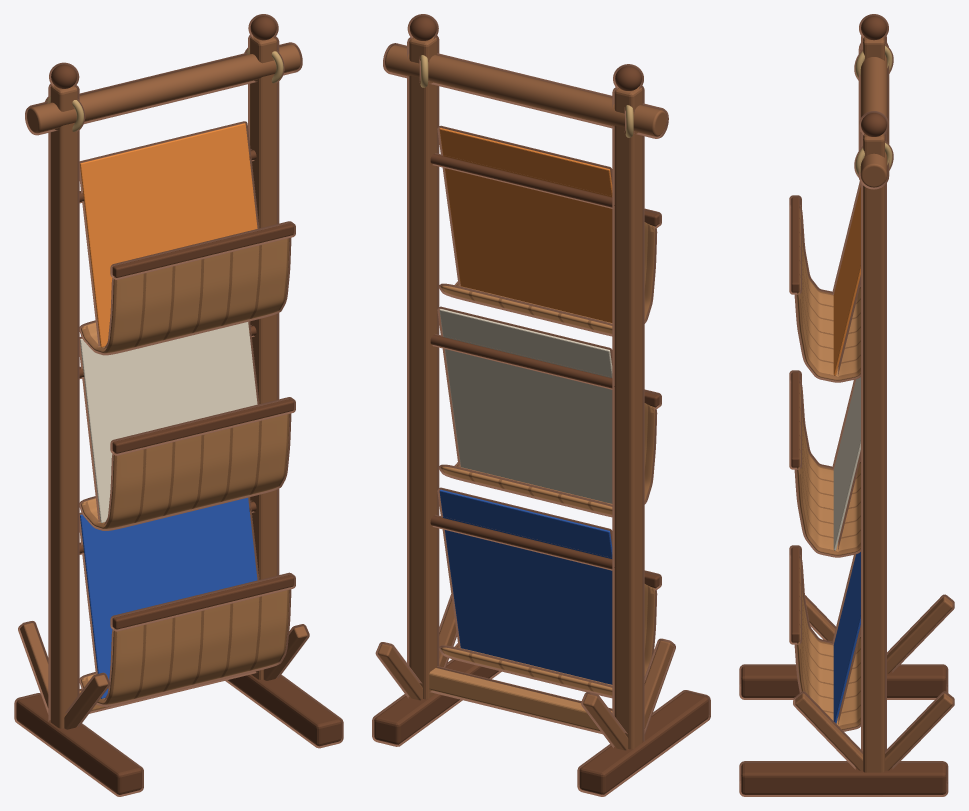
Rendered from MC_5_StandRack.glb.
The picture shows the model from 3 angles, left to right: view 1: azimuth 30°, elevation 25°; view 2: azimuth 150°, elevation 25°; view 3: azimuth 270°, elevation 25°; orthographic projection. The views are drawn at different scales.
Visible parts, largest first — view 1: Sleeve_Rack3, Rack_Post-1, Sleeve_Rack2, Sleeve_Rack1, Rack_Pocket2, Rack_Pocket3, Rack_Pocket1, Rack_Post1, Rack_TopBeam, Rack_Foot-1, Rack_Foot1, Rack_Pocket2_Trim (+7 smaller); view 2: Sleeve_Rack1, Sleeve_Rack2, Sleeve_Rack3, Rack_Post-1, Rack_Post1, Rack_TopBeam, Rack_Foot-1, Rack_Stretcher, Rack_Pocket3, Rack_Pocket2, Rack_Pocket1, Rack_Foot1 (+9 smaller); view 3: Rack_Post1, Rack_Foot1, Rack_Pocket3, Rack_Pocket2, Rack_Pocket1, Rack_Foot-1, Sleeve_Rack3, Sleeve_Rack2, Sleeve_Rack1, Rack_TopBeam, Rack_Brace1-1, Rack_Brace11 (+8 smaller).
Boxes of the visible parts, x1=… form: Sleeve_Rack3: x1=79, y1=121, x2=259, y2=347; Rack_Post-1: x1=48, y1=83, x2=79, y2=728; Sleeve_Rack2: x1=79, y1=321, x2=259, y2=522; Sleeve_Rack1: x1=79, y1=497, x2=259, y2=698; Rack_Pocket2: x1=79, y1=413, x2=291, y2=530; Rack_Pocket3: x1=79, y1=238, x2=291, y2=355; Rack_Pocket1: x1=79, y1=589, x2=291, y2=706; Rack_Post1: x1=248, y1=35, x2=279, y2=679; Rack_TopBeam: x1=25, y1=42, x2=302, y2=135; Rack_Foot-1: x1=14, y1=693, x2=143, y2=796; Rack_Foot1: x1=225, y1=674, x2=343, y2=748; Rack_Pocket2_Trim: x1=110, y1=397, x2=295, y2=455; Sleeve_Rack1: x1=437, y1=487, x2=612, y2=684; Sleeve_Rack2: x1=437, y1=306, x2=612, y2=503; Sleeve_Rack3: x1=437, y1=125, x2=612, y2=322; Rack_Post-1: x1=612, y1=86, x2=644, y2=749; Rack_Post1: x1=407, y1=35, x2=439, y2=699; Rack_TopBeam: x1=383, y1=43, x2=668, y2=138; Rack_Foot-1: x1=577, y1=690, x2=710, y2=796; Rack_Stretcher: x1=429, y1=666, x2=612, y2=734; Rack_Pocket3: x1=438, y1=222, x2=657, y2=336; Rack_Pocket2: x1=438, y1=403, x2=657, y2=517; Rack_Pocket1: x1=438, y1=584, x2=657, y2=698; Rack_Foot1: x1=372, y1=659, x2=501, y2=746; Rack_Post1: x1=861, y1=133, x2=886, y2=795; Rack_Foot1: x1=739, y1=761, x2=948, y2=796; Rack_Pocket3: x1=794, y1=205, x2=860, y2=382; Rack_Pocket2: x1=794, y1=380, x2=860, y2=557; Rack_Pocket1: x1=794, y1=555, x2=860, y2=731; Rack_Foot-1: x1=739, y1=664, x2=948, y2=699; Sleeve_Rack3: x1=831, y1=181, x2=860, y2=375; Sleeve_Rack2: x1=831, y1=377, x2=860, y2=550; Sleeve_Rack1: x1=831, y1=552, x2=860, y2=724; Rack_TopBeam: x1=858, y1=43, x2=889, y2=189; Rack_Brace1-1: x1=793, y1=691, x2=862, y2=770; Rack_Brace11: x1=885, y1=691, x2=954, y2=770.
Bounding box in the file's own units: 0.5068 × 1.24 × 0.3574.
11 materials, 6 textured.
